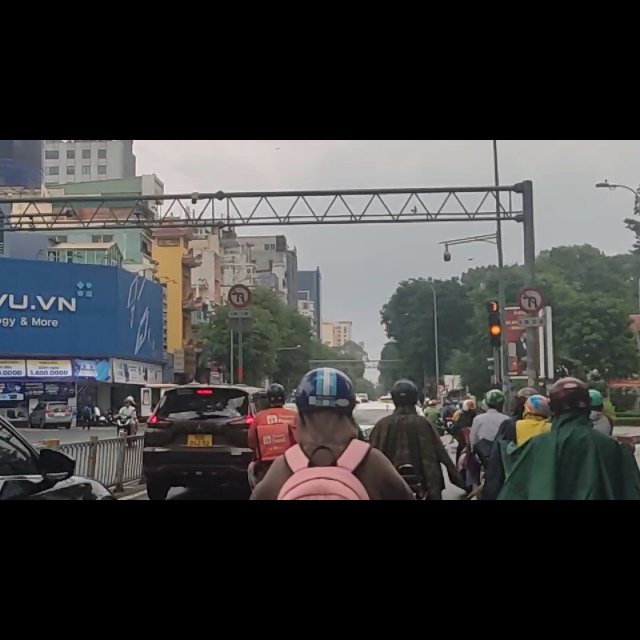bien_cam: (520, 265, 542, 305), (229, 255, 251, 295)
